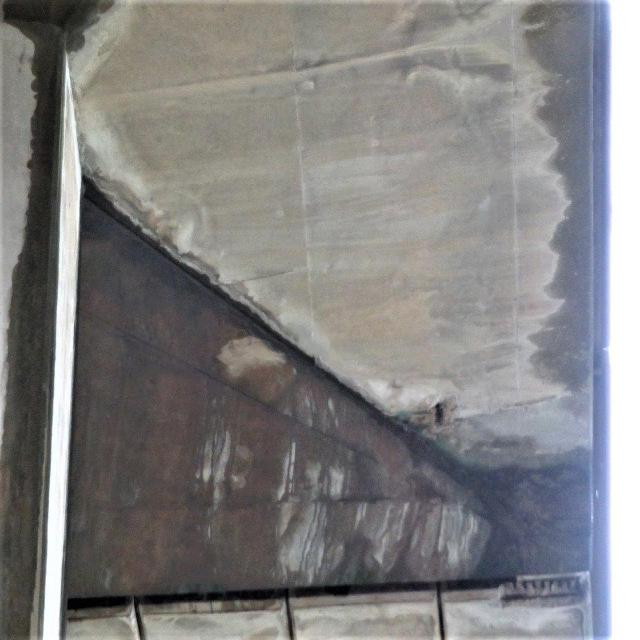Rebar: (498, 572, 586, 610), (416, 392, 461, 438)
